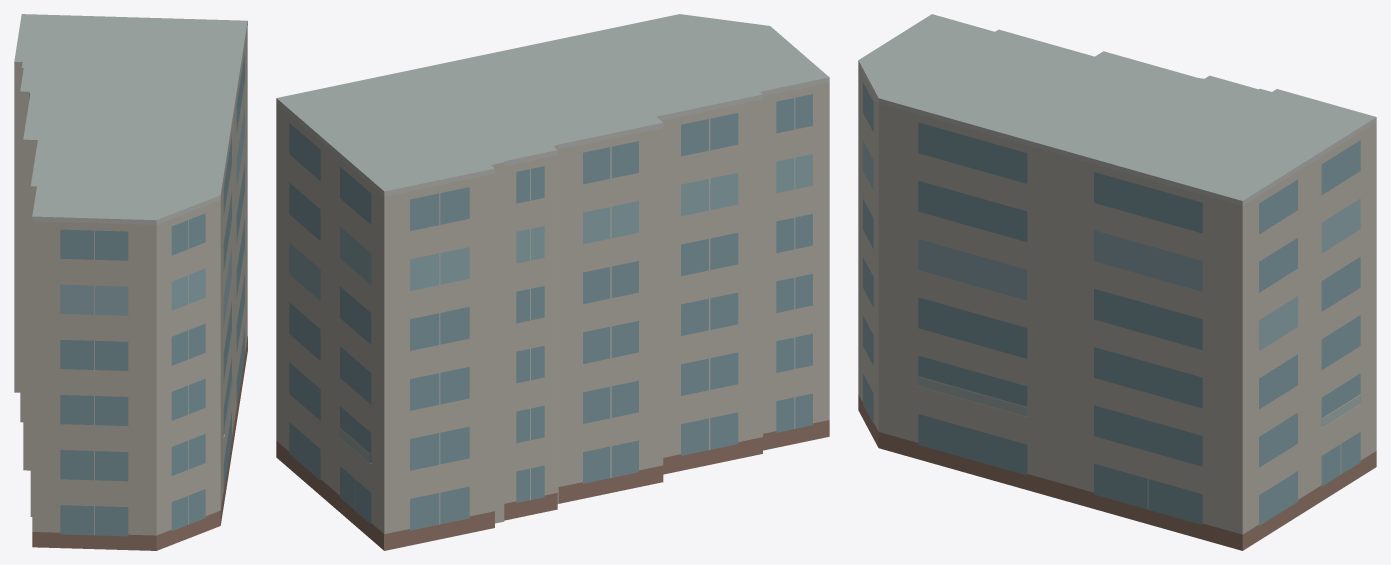
File: survey-upis-33005648.glb
The picture shows the model from 3 angles, left to right: view 1: azimuth 30°, elevation 25°; view 2: azimuth 150°, elevation 25°; view 3: azimuth 270°, elevation 25°; orthographic projection. The views are drawn at different scales.
Visible parts, largest first — view 1: survey-upis-33005648.tmp; view 2: survey-upis-33005648.tmp; view 3: survey-upis-33005648.tmp.
Part boxes in pixels (x1,y1,x2,y2): survey-upis-33005648.tmp: (14, 14, 247, 550); survey-upis-33005648.tmp: (276, 14, 829, 550); survey-upis-33005648.tmp: (858, 14, 1376, 550).
Bounding box in the file's own units: 19.84 × 17.3 × 23.23.
